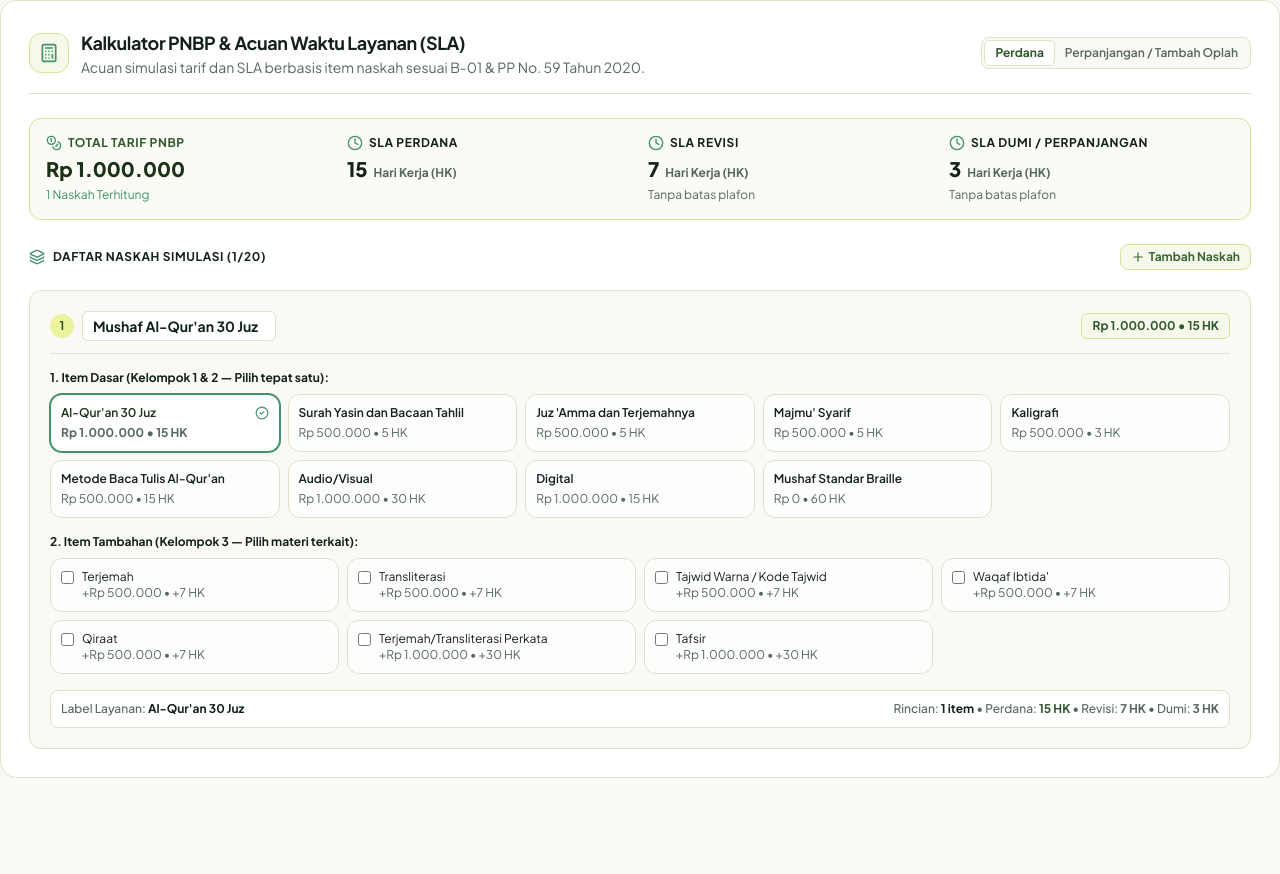
Test case: B-01 Sesi 3: Verifier Workbench Calculator Tab (U-14) › B-01 CALC-5: Multi-naskah simulasi menjumlahkan tarif dan mengambil SLA terpanjang
Click the button "Tambah Naskah".
click(1185, 257)  # box x1=1120 y1=244 x2=1251 y2=270
(page scrolled)
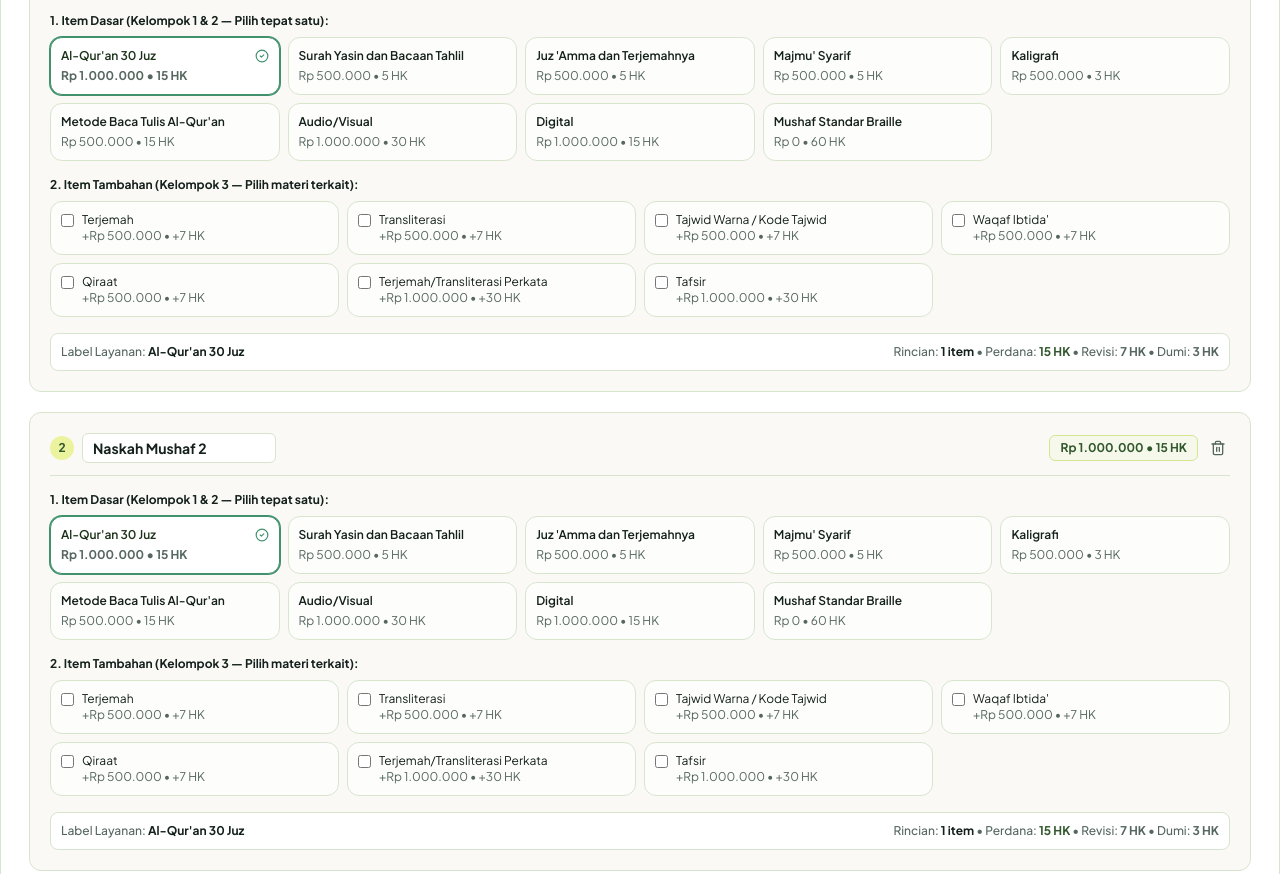
Ubah naskah 2 jadi Yasin (Rp 500.000, 5 HK)
Click the 2nd button "Surah Yasin dan Bacaan Tahlil".
click(402, 545)  # box x1=288 y1=516 x2=517 y2=574
(page scrolled)
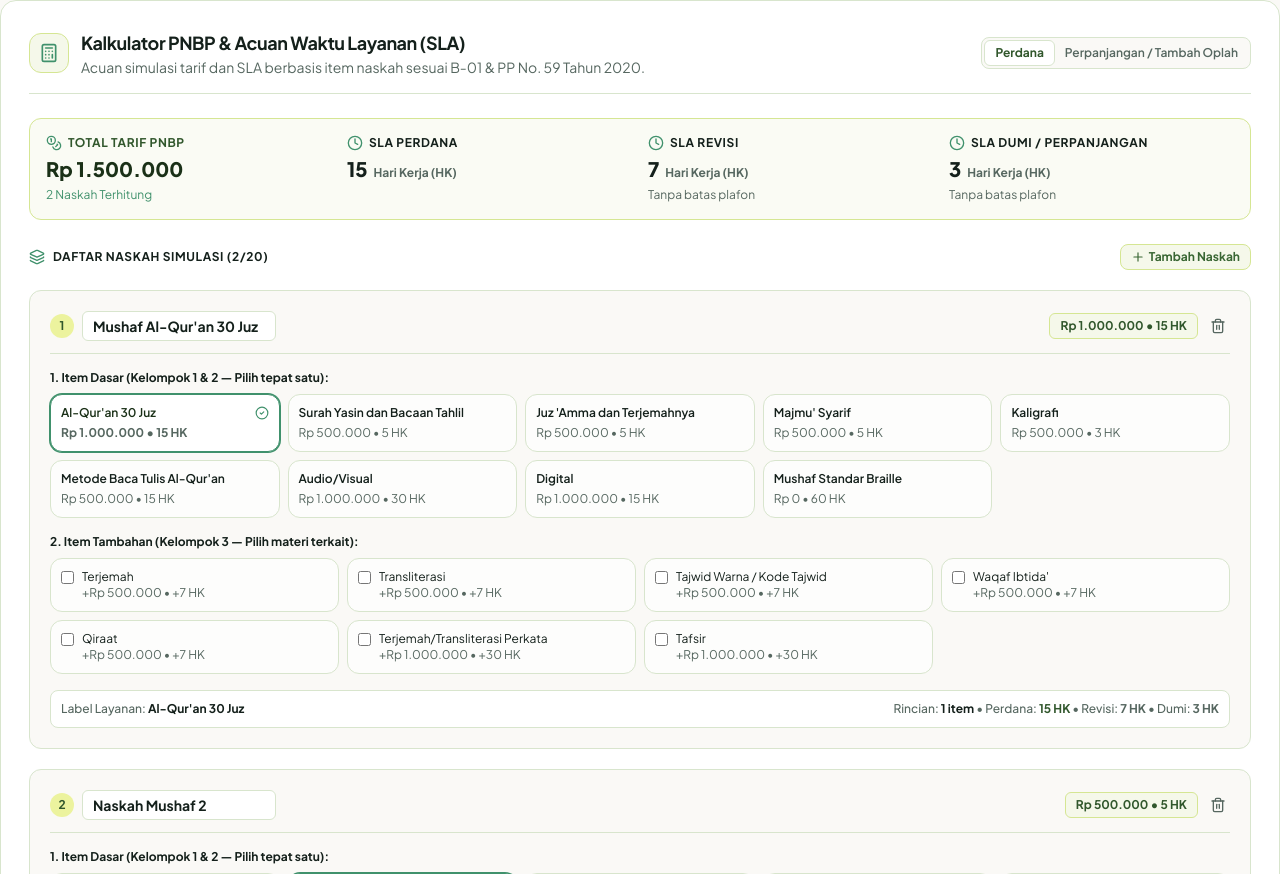
Expected: the text with test id "summary-sla-initial" reads "15", x1=347 y1=156 x2=368 y2=181
Expected: the text with test id "summary-total-fee" shows "1.500.000", x1=46 y1=156 x2=183 y2=181
